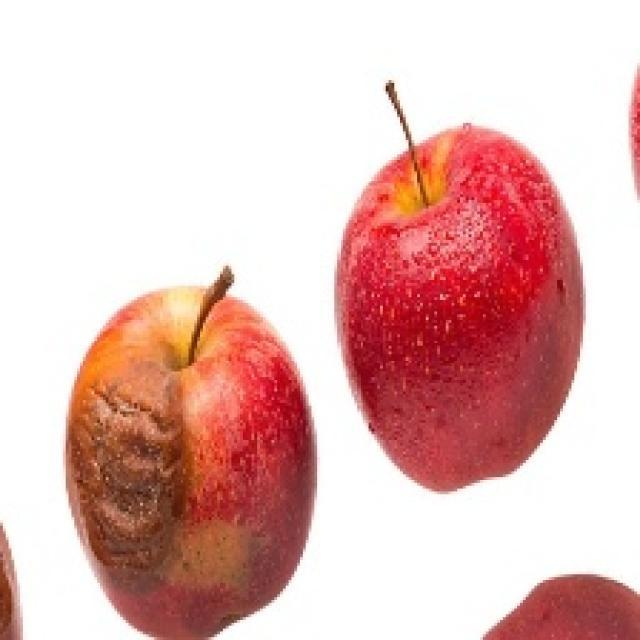apple: (336, 124, 582, 491), (67, 284, 315, 639)
